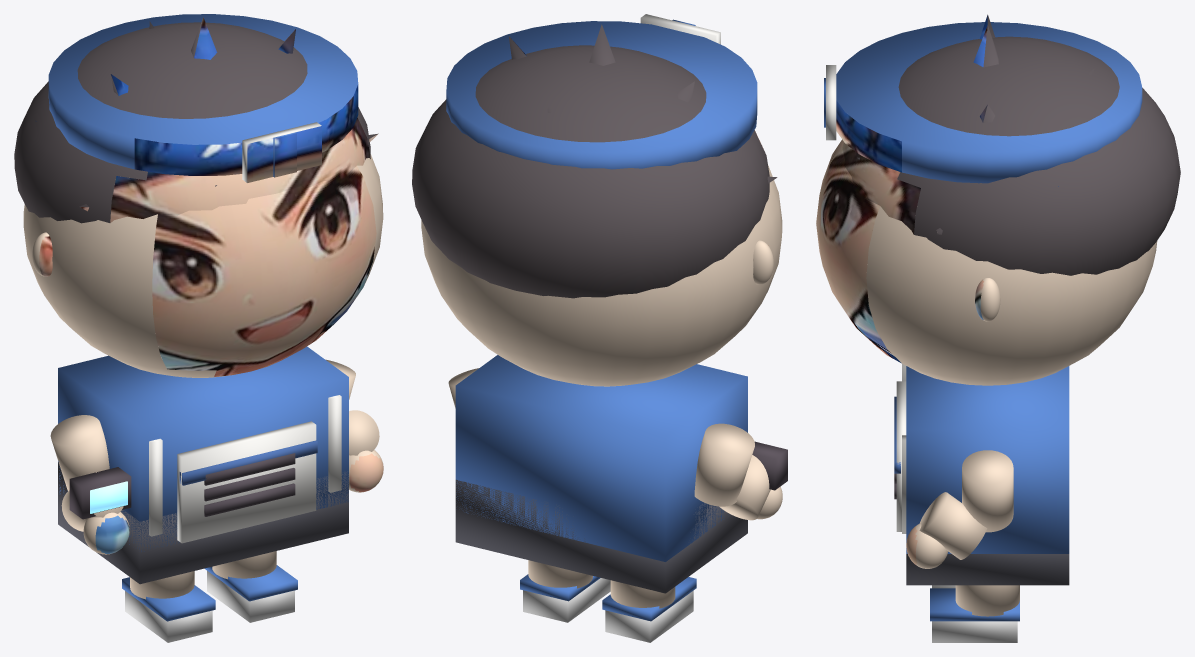
File: runner.glb
3 renders of one model, left to right at view 1: azimuth 30°, elevation 25°; view 2: azimuth 150°, elevation 25°; view 3: azimuth 270°, elevation 25°, orthographic.
Visible parts, largest first — view 1: Head, HairCap, Singlet, Headband, Shorts, Bib, UpperArm_L, HeadbandLogo, Shoe_R, Shoe_L, Watch, ShoeStripe_L (+17 smaller); view 2: HairCap, Singlet, Head, Headband, Shorts, UpperArm_L, Shoe_L, Shoe_R, Forearm_L, Leg_L, Leg_R, ShoeStripe_L (+5 smaller); view 3: HairCap, Head, Headband, Singlet, Shorts, UpperArm_R, Forearm_R, Shoe_R, Leg_R, ShoeStripe_R, Hand_R, Bib (+3 smaller).
Boxes of the visible parts, x1,y1,x2,y2 form: Head: [23, 154, 383, 377]; HairCap: [14, 22, 370, 223]; Singlet: [58, 346, 348, 551]; Headband: [48, 14, 358, 175]; Shorts: [58, 462, 348, 584]; Bib: [177, 421, 316, 543]; UpperArm_L: [50, 415, 109, 490]; HeadbandLogo: [242, 122, 321, 182]; Shoe_R: [207, 571, 294, 622]; Shoe_L: [125, 591, 212, 642]; Watch: [69, 467, 131, 519]; ShoeStripe_L: [122, 577, 215, 621]; HairCap: [412, 45, 769, 298]; Singlet: [455, 355, 747, 561]; Head: [421, 165, 782, 386]; Headband: [446, 21, 757, 169]; Shorts: [455, 479, 747, 593]; UpperArm_L: [694, 423, 754, 506]; Shoe_L: [605, 590, 693, 642]; Shoe_R: [523, 578, 610, 622]; Forearm_L: [719, 455, 770, 520]; Leg_L: [610, 580, 675, 608]; Leg_R: [528, 560, 592, 588]; ShoeStripe_L: [602, 577, 696, 621]; HairCap: [842, 36, 1180, 275]; Head: [816, 139, 1157, 385]; Headband: [836, 22, 1142, 183]; Singlet: [906, 366, 1069, 553]; Shorts: [906, 554, 1069, 585]; UpperArm_R: [962, 450, 1013, 532]; Forearm_R: [919, 492, 987, 559]; Shoe_R: [932, 621, 1017, 642]; Leg_R: [955, 585, 1019, 616]; ShoeStripe_R: [930, 588, 1019, 621]; Hand_R: [906, 523, 948, 568]; Bib: [896, 381, 906, 531].
Size of the model in its own units: 0.91 by 1.51 by 0.85.
10 materials, 1 textured.
